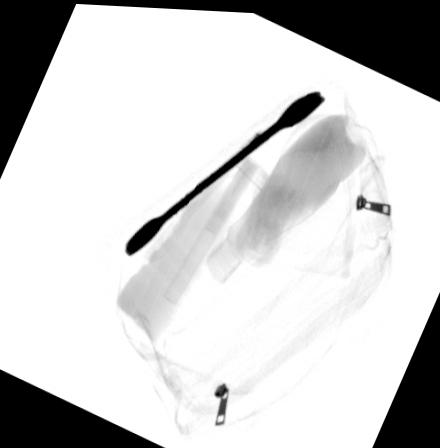Wrench: (122, 84, 329, 256)
